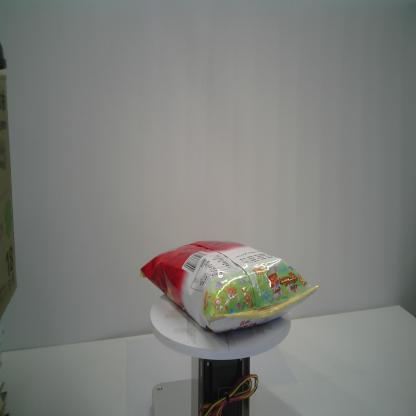Puffed Food: (139, 240, 319, 334)
